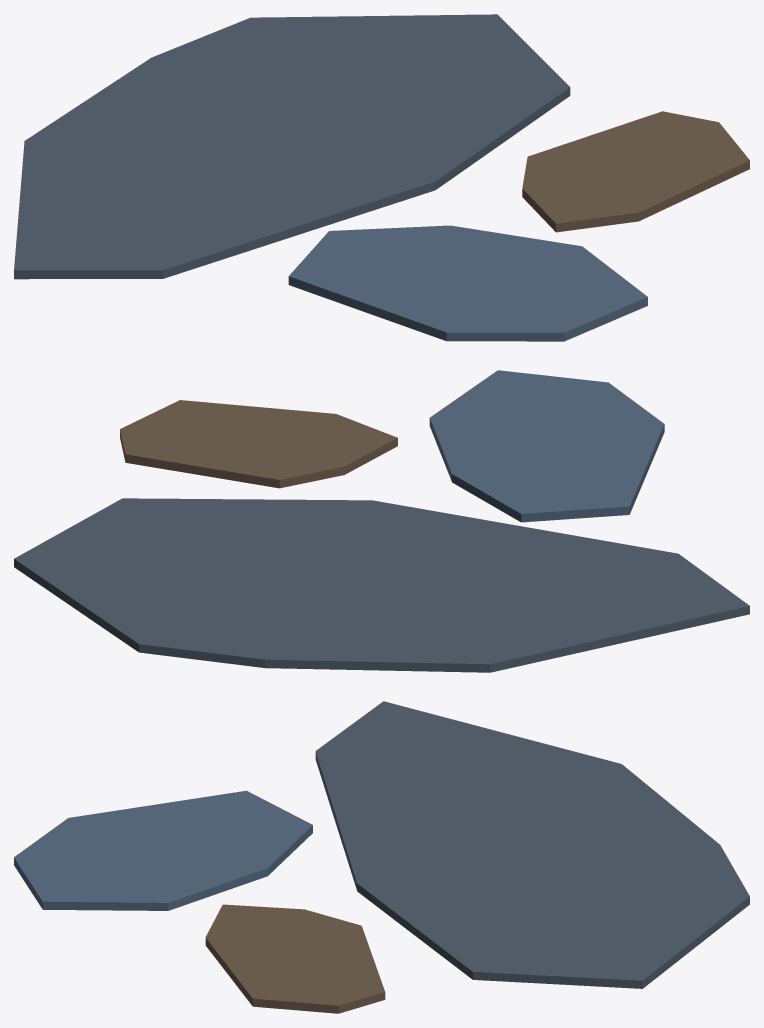
File: AW_Stone02.fbx
3 renders of one model, top to bottom at view 1: azimuth 30°, elevation 25°; view 2: azimuth 150°, elevation 25°; view 3: azimuth 270°, elevation 25°, orthographic. The views are drawn at different scales.
Parts seen in each view (by area): view 1: AW_Stone02; view 2: AW_Stone02; view 3: AW_Stone02.
Boxes of the visible parts, x1,y1,x2,y2 form: AW_Stone02: (14,14,749,341); AW_Stone02: (14,370,749,672); AW_Stone02: (14,701,749,1013).
Bounding box in the file's own units: 156 × 1.93 × 159.
Materials: 1 (1 with a texture image).
